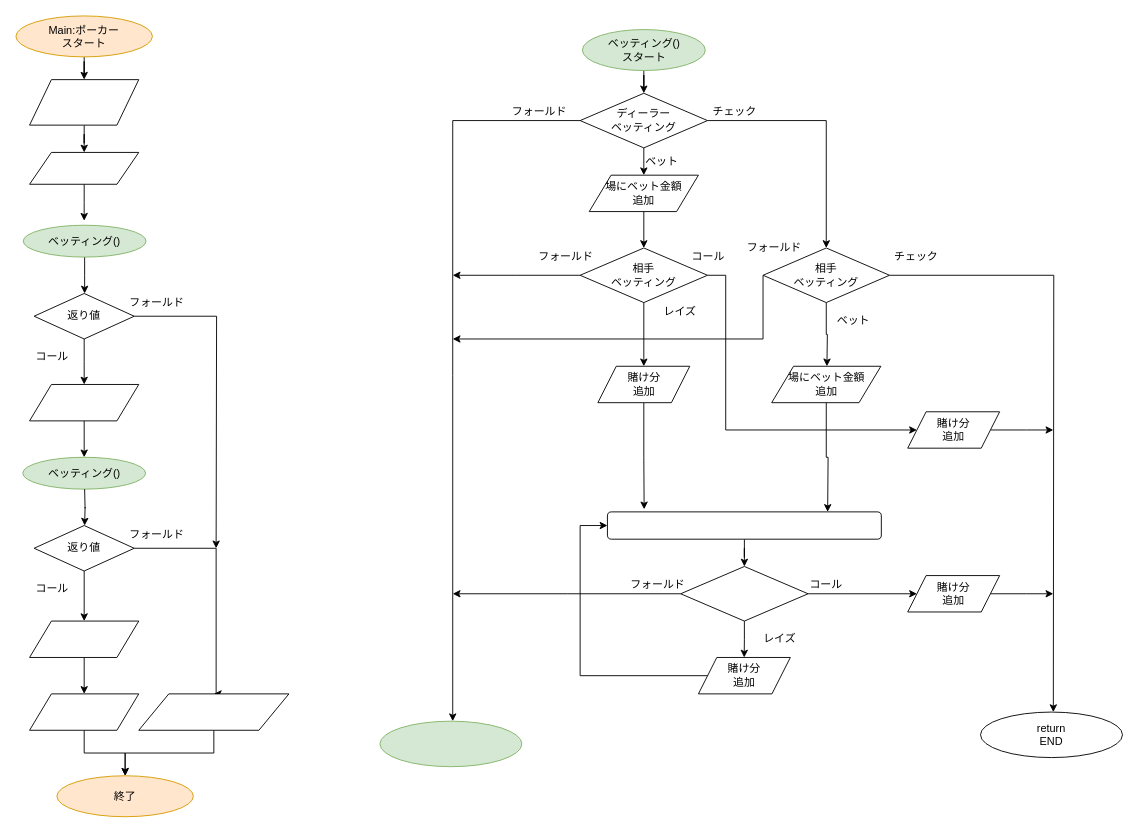
The diagram is 1138 pixels wide and 833 high, and some of its shapes have lost their labels. Each missing label, with the centre of its shape:
return フォールドプレイヤー: the point at 450,743
アンティ 互いに20円: the point at 84,102
ショーダウン 判定: the point at 84,638
フォールドした方が 相手に掛け金: the point at 213,711
前の反対 ベッティング: the point at 744,593
強い方に 掛け金全額: the point at 84,711
手札 配布: the point at 84,168
手札交換: the point at 84,402
相手賭け金!=自分掛け金: the point at 744,525
